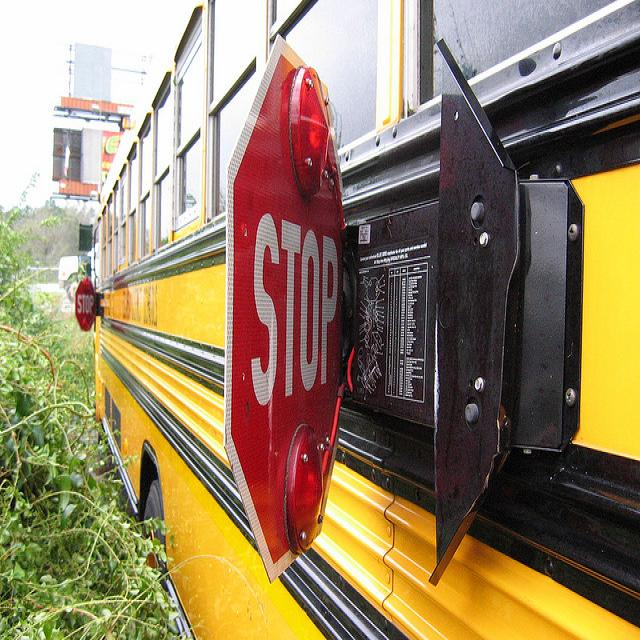Vehicle: (85, 0, 636, 631)
